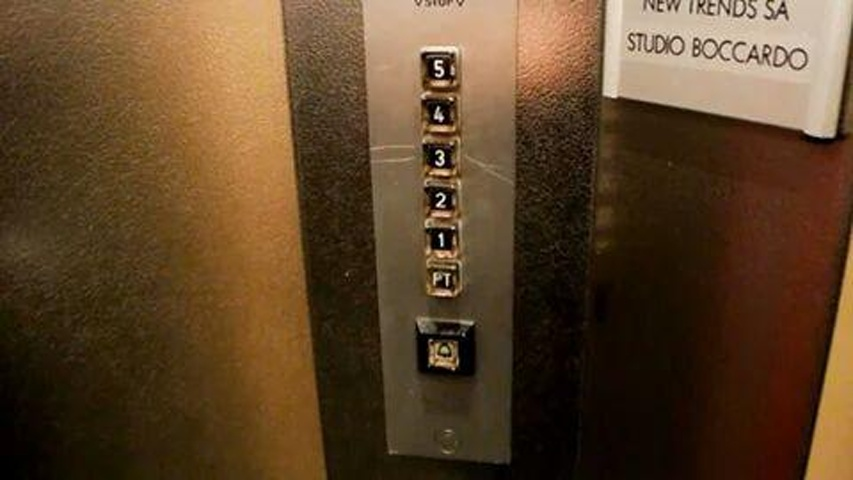1: (420, 219, 462, 259)
2: (419, 179, 460, 219)
3: (418, 137, 460, 179)
4: (419, 93, 461, 133)
5: (419, 47, 459, 89)
PT: (422, 259, 462, 299)
alarm: (421, 332, 464, 375)
